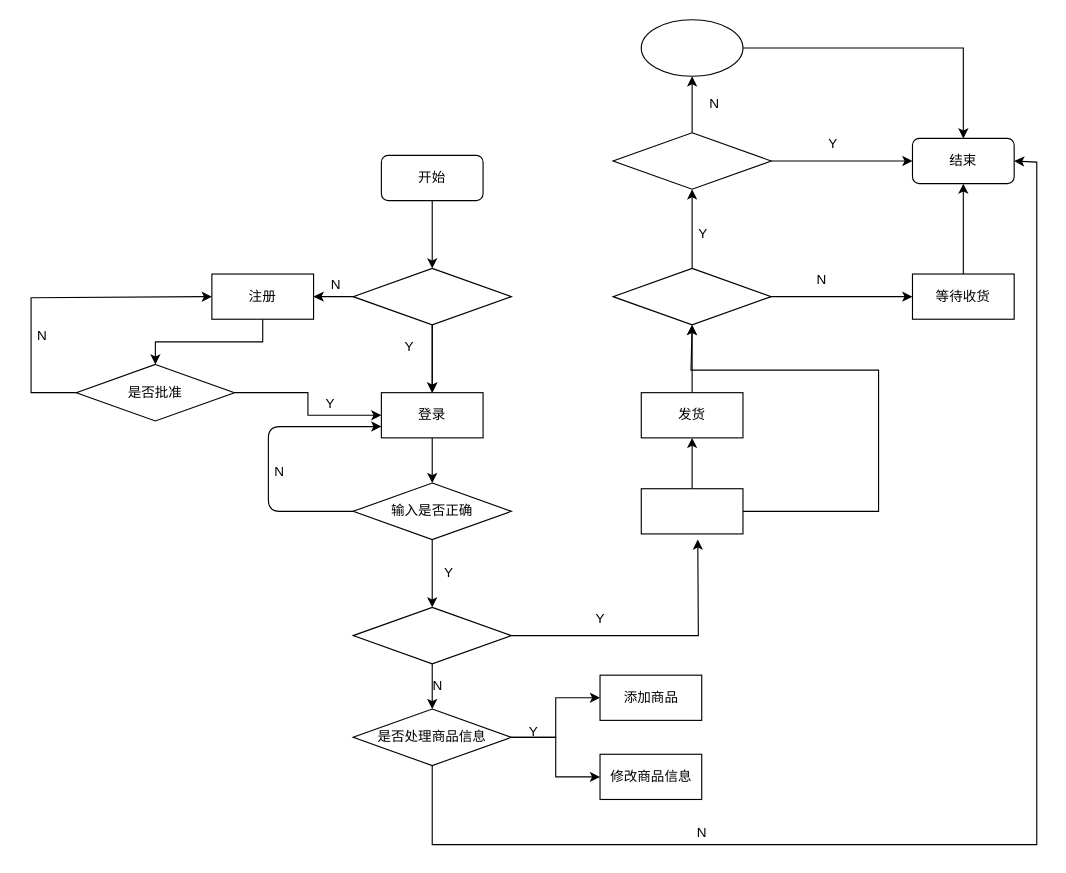
Image size: 1066x873. Some labels were removed from this diagram. Here are the shapes that lost their labels. From the top down, the centre of each, then its label:
the point at 691,47: 沟通协商
the point at 691,160: 是否同意
the point at 431,296: 是否有账号
the point at 691,296: 是否退货
the point at 691,511: 查看订单
the point at 431,635: 是否有新订单
